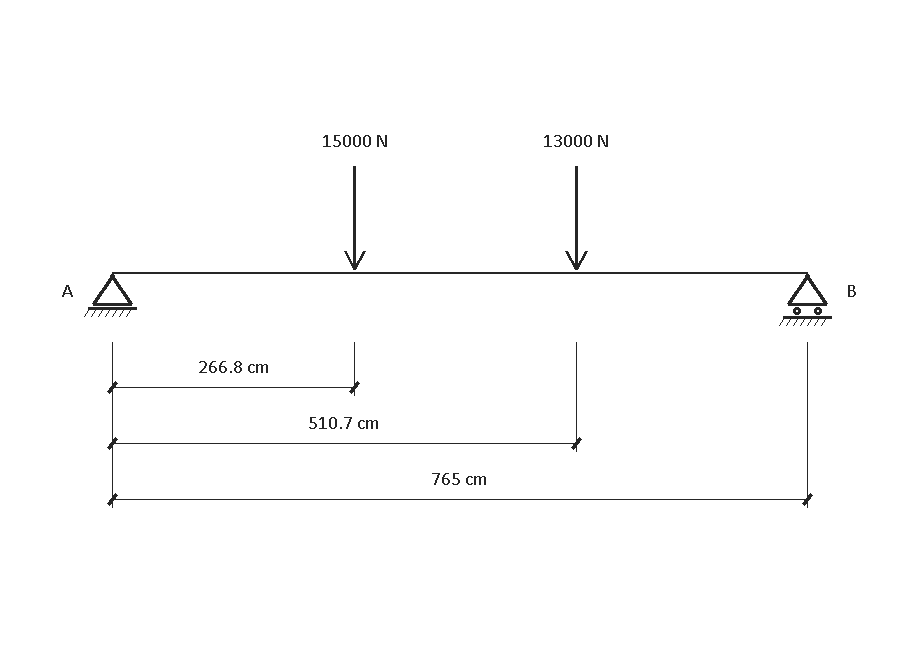pin_support: (84, 274, 137, 317)
point_load: (565, 166, 588, 270), (344, 166, 366, 270)
roller_support: (779, 274, 832, 326)
